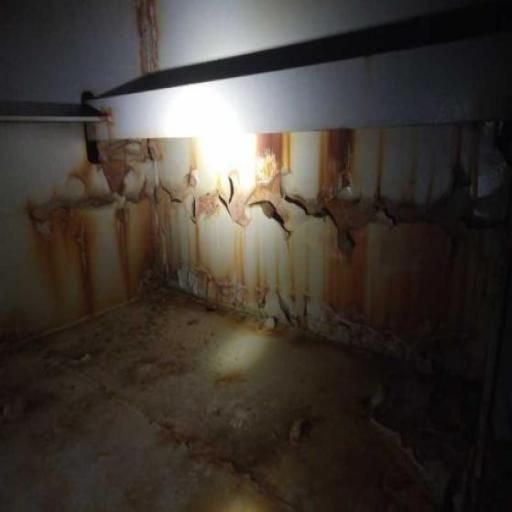Detect-rust-on-metal-surfaces: (0, 104, 510, 511), (134, 2, 167, 78)
